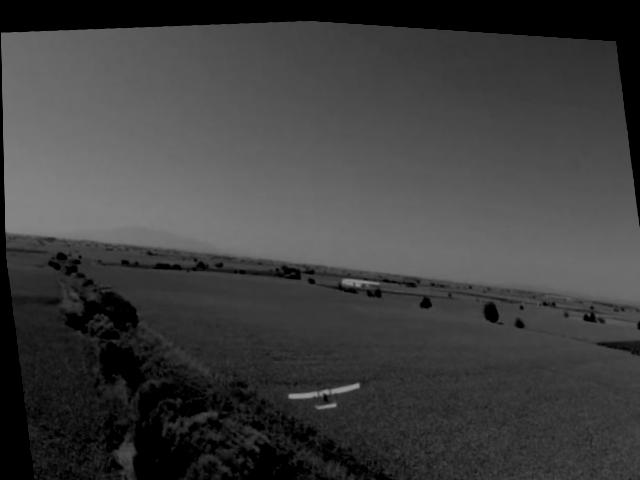hedef: (279, 360, 371, 420)
